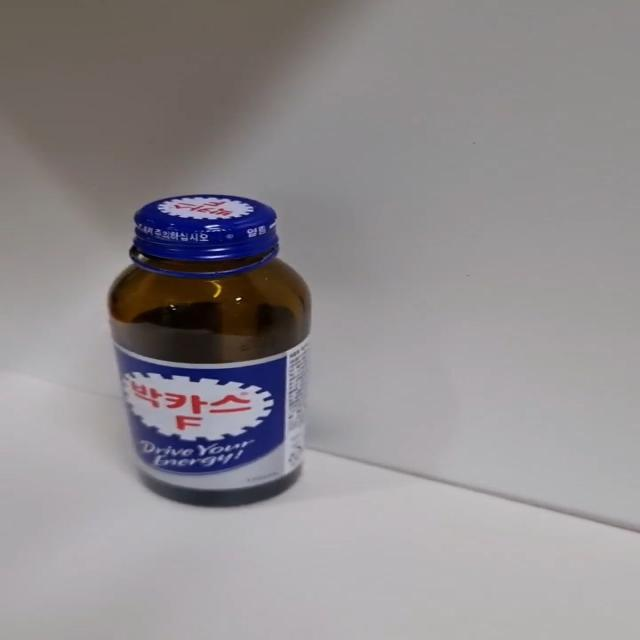Glass: (105, 193, 314, 511)
